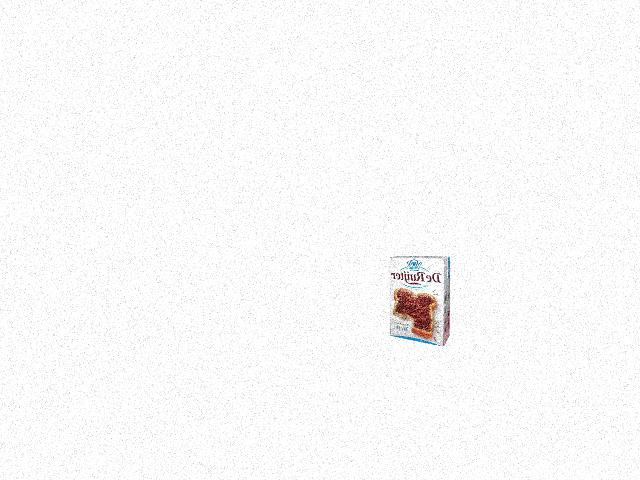chocolate: (381, 250, 458, 343)
